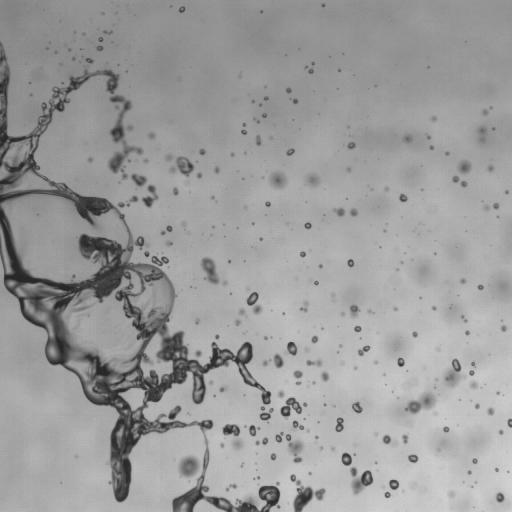droplet: (290, 474, 325, 511), (405, 391, 436, 413), (443, 358, 466, 387), (350, 467, 373, 494), (222, 424, 243, 449), (169, 156, 193, 177), (280, 397, 302, 418), (142, 184, 158, 207), (246, 292, 262, 314), (269, 171, 287, 189), (263, 354, 283, 368), (130, 173, 146, 186), (458, 160, 471, 173), (382, 434, 397, 445), (306, 174, 319, 186), (285, 342, 297, 355), (293, 370, 302, 385), (341, 452, 351, 465), (350, 304, 359, 317), (335, 417, 343, 431), (352, 402, 362, 413), (248, 425, 258, 436), (292, 421, 303, 430), (320, 371, 329, 381), (389, 479, 398, 489), (334, 208, 344, 216), (408, 454, 418, 462), (496, 492, 504, 502), (300, 302, 308, 311), (397, 357, 404, 366), (403, 135, 411, 142), (347, 142, 355, 149), (286, 148, 294, 155), (399, 194, 407, 201), (350, 208, 357, 216), (469, 381, 477, 388), (487, 407, 494, 415), (311, 336, 318, 343), (277, 390, 284, 397), (402, 434, 407, 443), (479, 127, 485, 134), (148, 132, 155, 138), (165, 154, 172, 160), (452, 176, 459, 182), (460, 181, 467, 187), (304, 222, 311, 228), (347, 259, 353, 266), (270, 453, 276, 460), (447, 491, 454, 497), (173, 187, 178, 195), (179, 6, 185, 12), (482, 109, 488, 115), (166, 225, 172, 231), (239, 308, 245, 314), (507, 418, 511, 427), (443, 426, 449, 432), (354, 326, 361, 331), (86, 58, 92, 63), (199, 149, 205, 154), (493, 203, 498, 209), (483, 205, 489, 210), (300, 251, 305, 257), (235, 319, 240, 325), (501, 325, 506, 331), (412, 331, 417, 337), (219, 387, 225, 392), (384, 492, 390, 497), (96, 46, 103, 50), (308, 68, 313, 73), (286, 88, 291, 93), (431, 116, 436, 121), (214, 167, 219, 172), (346, 167, 351, 172), (488, 166, 493, 171), (196, 173, 201, 178), (265, 201, 270, 206), (144, 251, 149, 256), (460, 278, 465, 283), (222, 280, 227, 285), (478, 284, 483, 289), (469, 370, 474, 375), (472, 458, 477, 463), (241, 130, 246, 134), (88, 157, 92, 162), (160, 230, 165, 234), (166, 241, 171, 245), (465, 330, 469, 335), (475, 403, 479, 408), (98, 37, 102, 41), (264, 96, 268, 100), (293, 99, 297, 103), (262, 113, 266, 117), (480, 137, 484, 141), (384, 187, 388, 191), (432, 306, 436, 310), (195, 319, 199, 323), (215, 334, 219, 338), (471, 362, 475, 366), (499, 430, 503, 434), (467, 470, 471, 474), (429, 146, 433, 149), (182, 222, 185, 226), (314, 281, 318, 284), (368, 310, 372, 313), (303, 402, 306, 406), (427, 135, 430, 138), (445, 152, 448, 155), (144, 159, 147, 162), (319, 264, 322, 267), (331, 294, 334, 297), (105, 309, 108, 312), (209, 380, 212, 383), (220, 443, 223, 446), (495, 468, 498, 471), (86, 312, 88, 316), (231, 153, 233, 156), (505, 191, 508, 193), (259, 238, 262, 240), (394, 307, 396, 310), (341, 313, 344, 315), (264, 337, 267, 339), (315, 436, 318, 438), (332, 447, 334, 450), (256, 120, 258, 122), (243, 124, 245, 126), (211, 196, 213, 198), (78, 318, 80, 320), (437, 349, 439, 351), (374, 361, 376, 363), (342, 362, 344, 364), (497, 392, 499, 394), (320, 447, 322, 449), (240, 464, 242, 466), (414, 485, 416, 487)
ligament: (0, 42, 278, 511), (275, 432, 303, 463), (200, 257, 219, 284), (358, 345, 370, 356), (306, 359, 322, 366), (255, 437, 268, 445), (225, 484, 236, 491), (256, 135, 260, 145), (104, 30, 111, 34), (462, 316, 466, 322)
